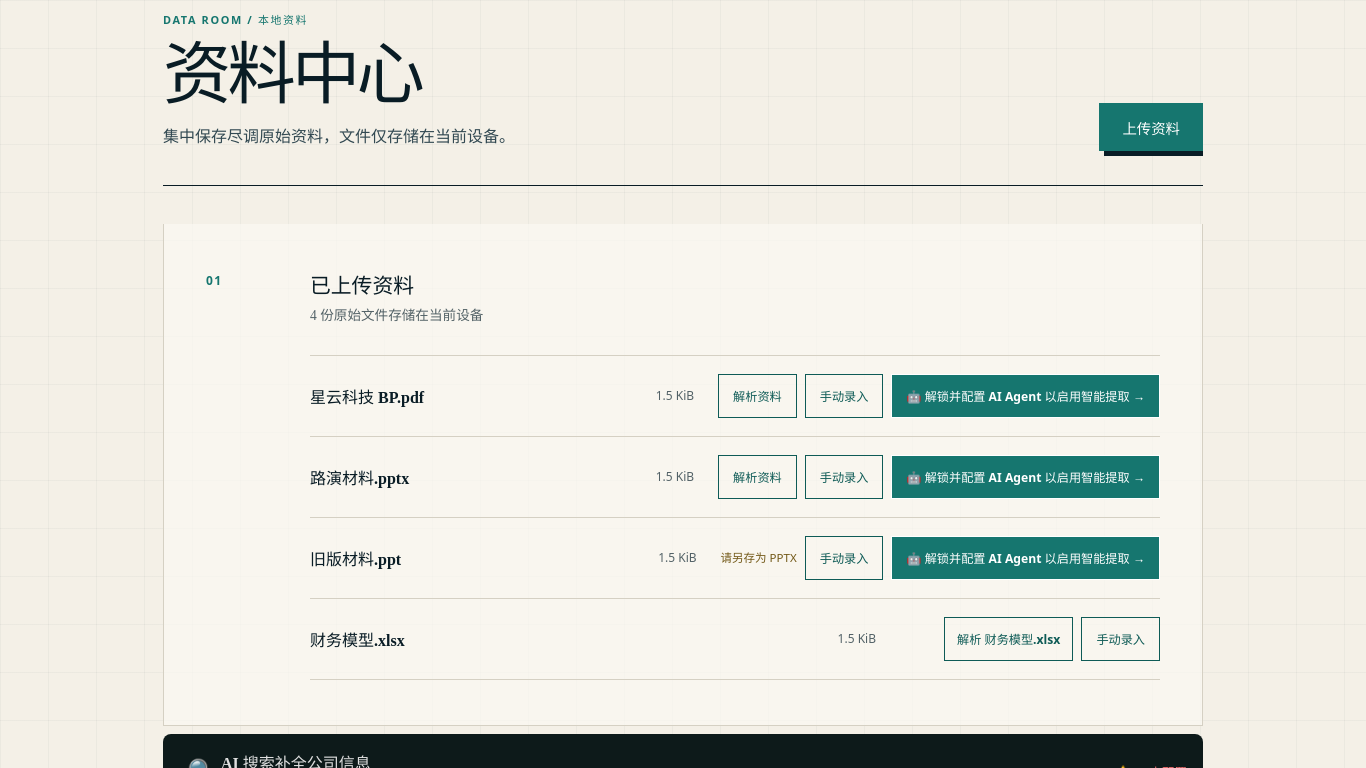
Test: DataRoomPage document evidence workflow › keeps Excel behavior and exposes parsing or manual entry by document format
Check: the button "解析资料" in the row of "星云科技 BP.pdf" is shown, box [718, 374, 797, 418]
Check: the button "手动录入" in the row of "星云科技 BP.pdf" is shown, box [805, 374, 883, 418]
Click the 4th button "手动录入" at (1121, 639), box [1081, 617, 1160, 661]
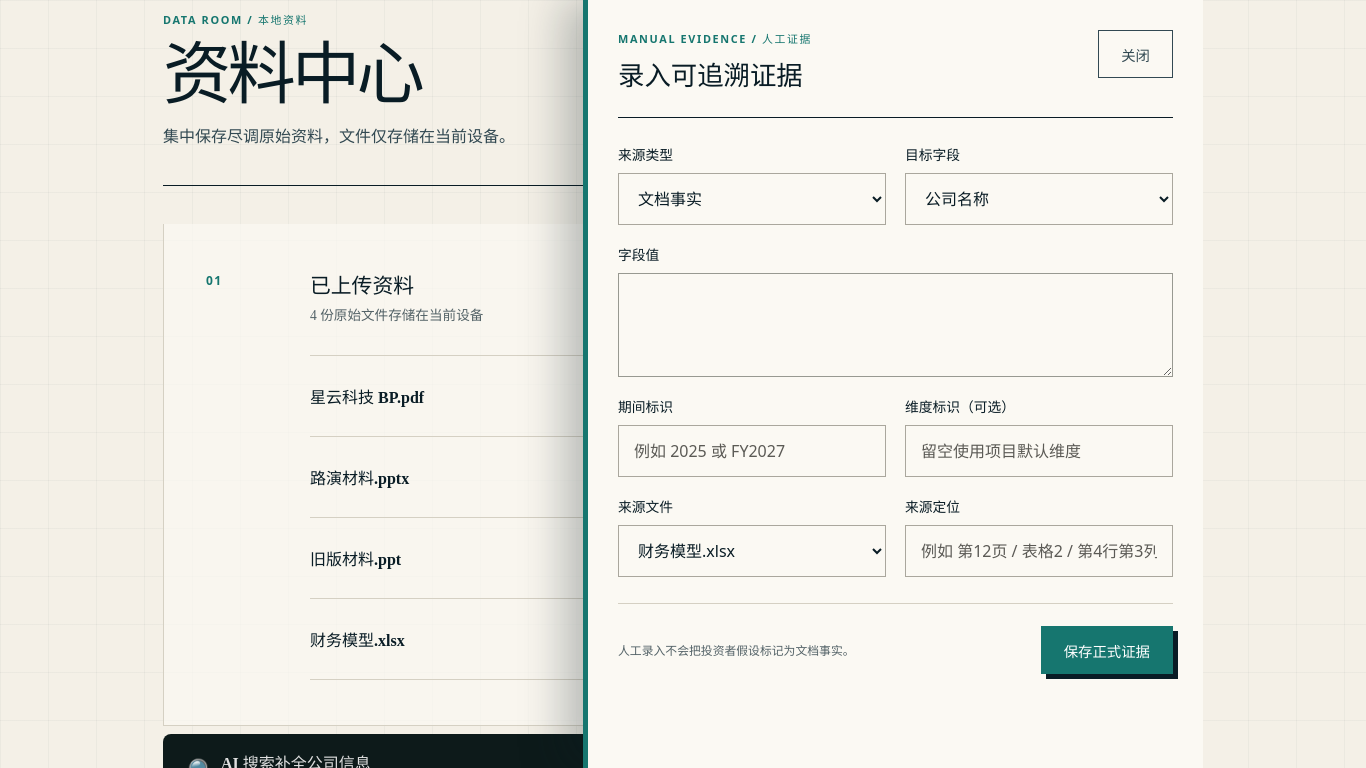
Check: the dialog "录入可追溯证据" is shown, box [583, 0, 1203, 767]
Press Escape
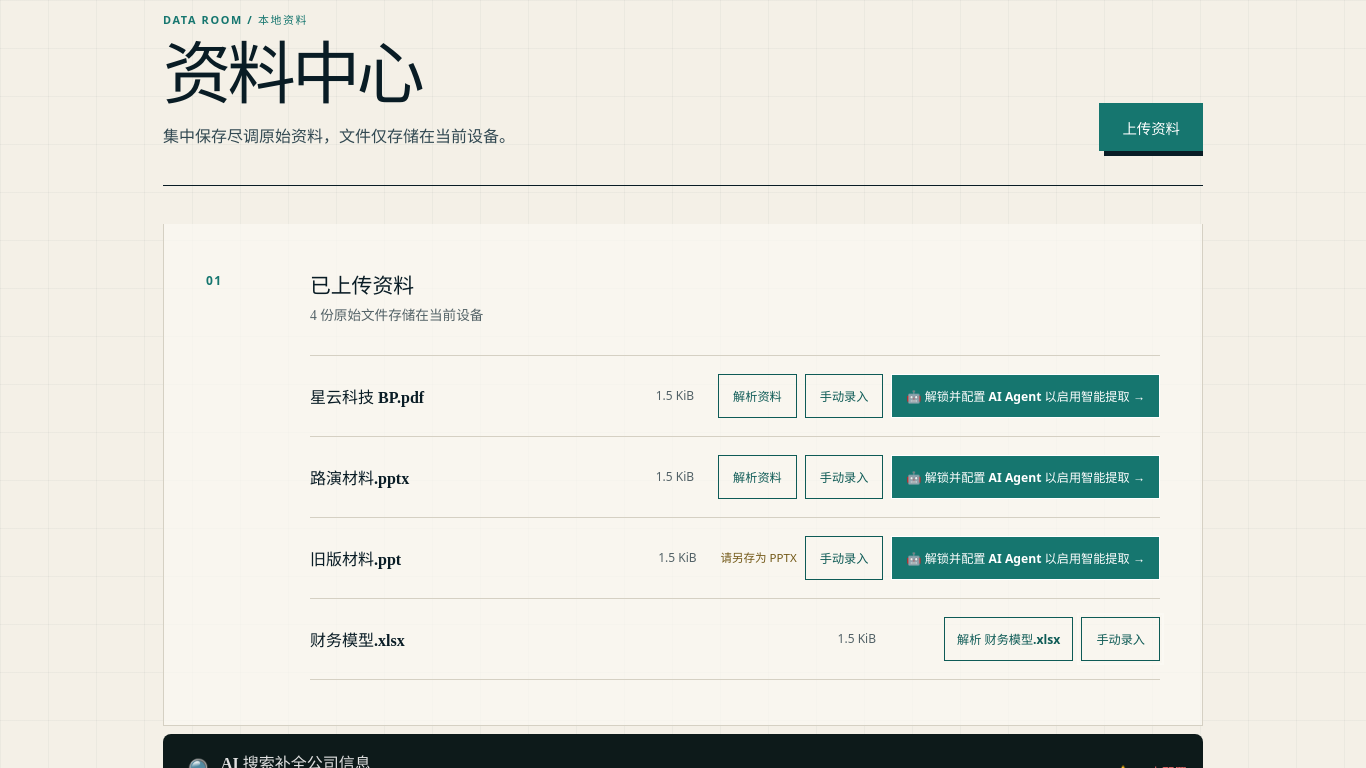
Check: the dialog is gone
